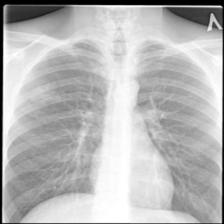tuberculosis: (3, 27, 221, 224)
